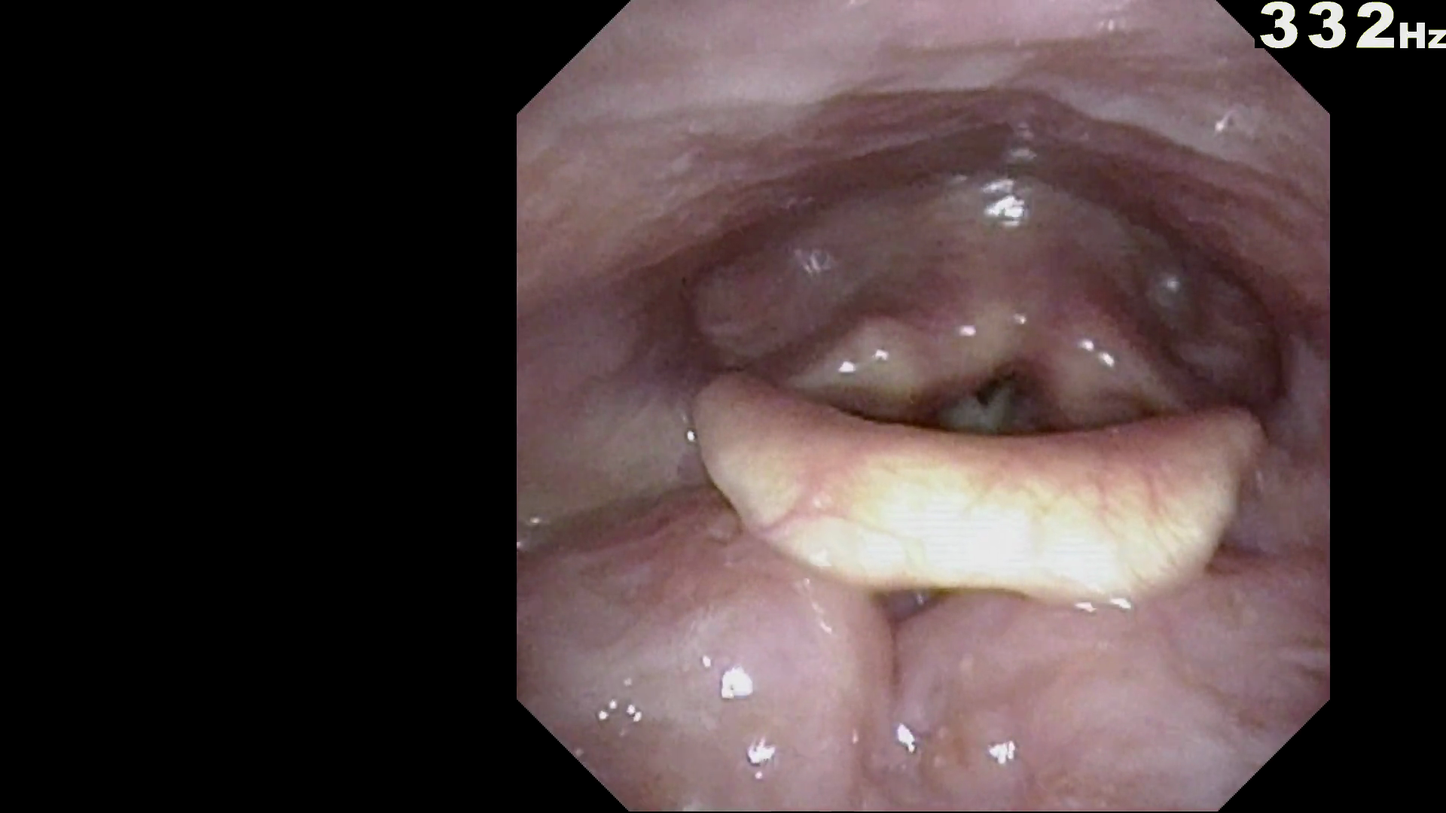epiglottis: (679, 357, 1281, 615)
trachea: (925, 326, 1071, 480)
